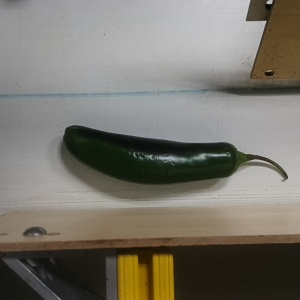Cut Point: (216, 140, 254, 177)
